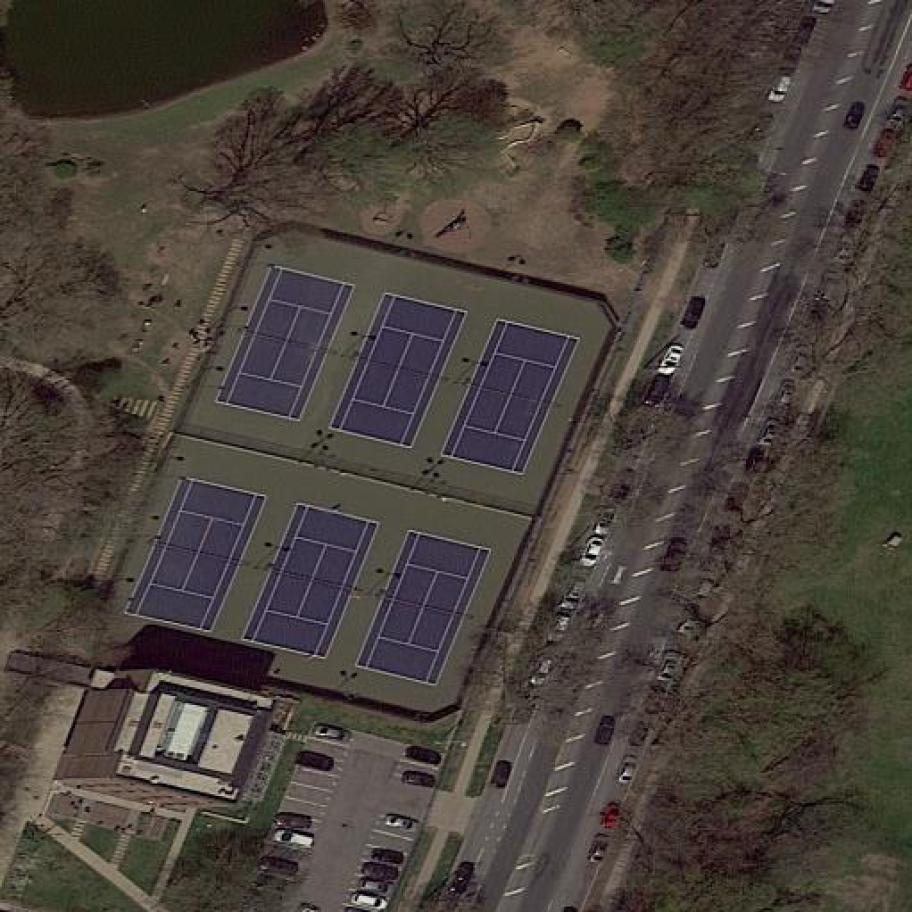small-vehicle: (678, 290, 711, 334), (558, 573, 590, 616), (609, 466, 641, 509), (641, 372, 673, 413), (655, 341, 687, 382), (272, 826, 318, 854), (831, 230, 860, 272), (448, 861, 478, 901), (769, 64, 798, 105), (773, 377, 800, 421), (816, 268, 846, 307), (746, 109, 776, 148), (657, 649, 685, 689), (294, 749, 337, 775), (259, 853, 302, 879), (662, 539, 691, 577), (872, 126, 901, 164), (725, 481, 753, 520), (402, 744, 444, 770), (844, 196, 871, 236), (528, 655, 557, 692), (546, 611, 575, 648), (487, 756, 516, 793), (641, 683, 669, 721), (579, 533, 607, 571), (586, 831, 614, 869), (703, 234, 730, 273), (676, 600, 703, 638), (362, 860, 403, 885), (857, 161, 885, 196), (350, 890, 393, 912), (757, 416, 783, 452), (789, 343, 814, 380), (628, 718, 653, 754), (598, 797, 623, 833), (312, 722, 350, 745), (594, 503, 618, 539), (401, 769, 437, 792), (358, 878, 398, 898), (594, 715, 618, 748), (616, 753, 639, 787), (275, 812, 314, 832), (889, 96, 912, 129), (844, 99, 867, 132), (382, 812, 417, 833), (369, 848, 407, 867), (696, 571, 719, 601), (710, 526, 732, 557), (746, 446, 767, 478)
